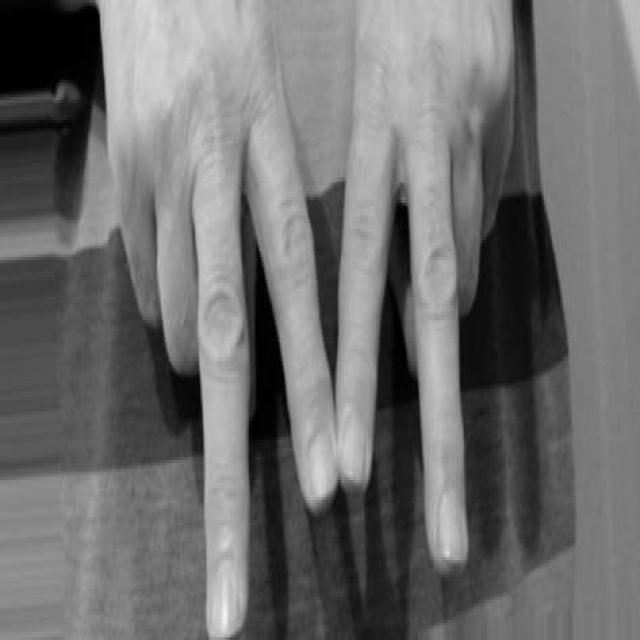M: (98, 0, 513, 640)
